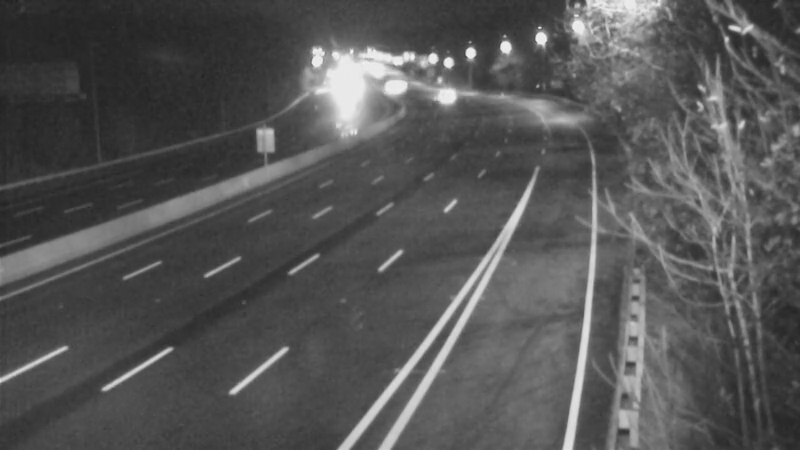vehicle: (363, 59, 413, 109), (424, 69, 474, 119), (317, 70, 367, 120)
